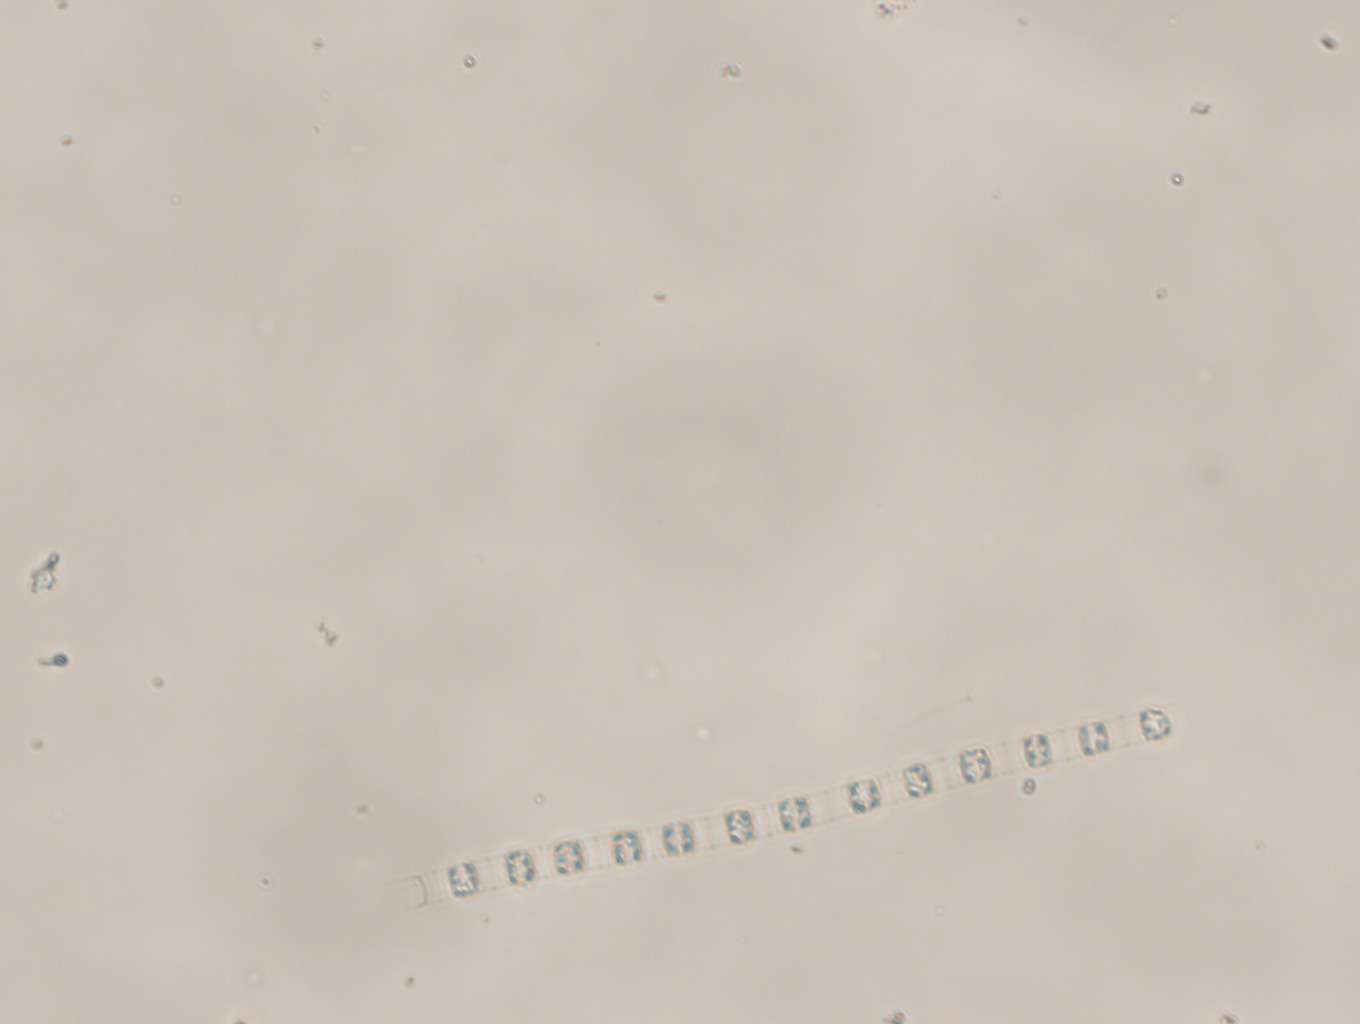skeletonema: (409, 693, 1174, 923)
